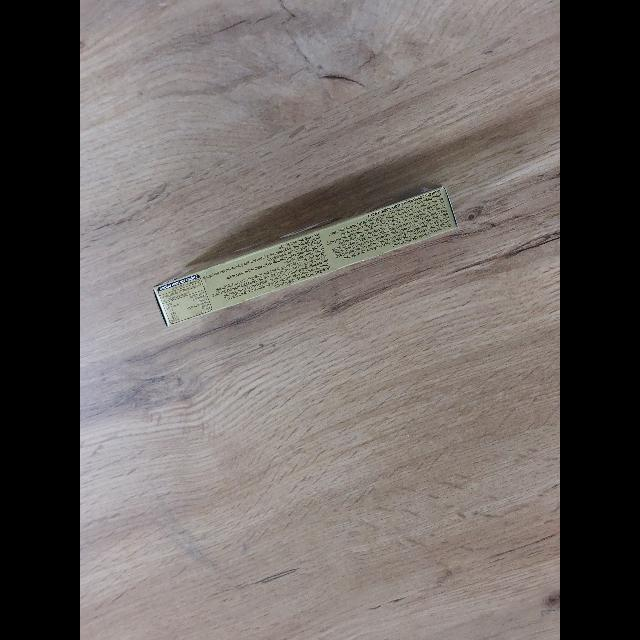banh_toppo_socola: (152, 186, 458, 327), (335, 237, 336, 240)
